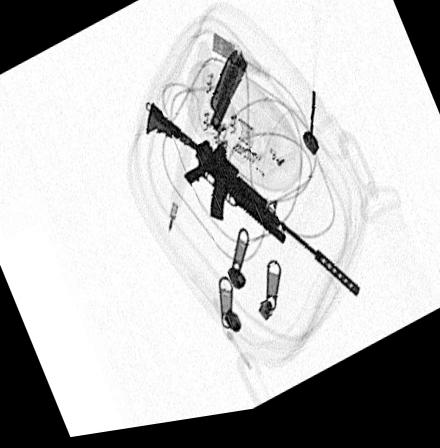Gun: (145, 104, 360, 312)
